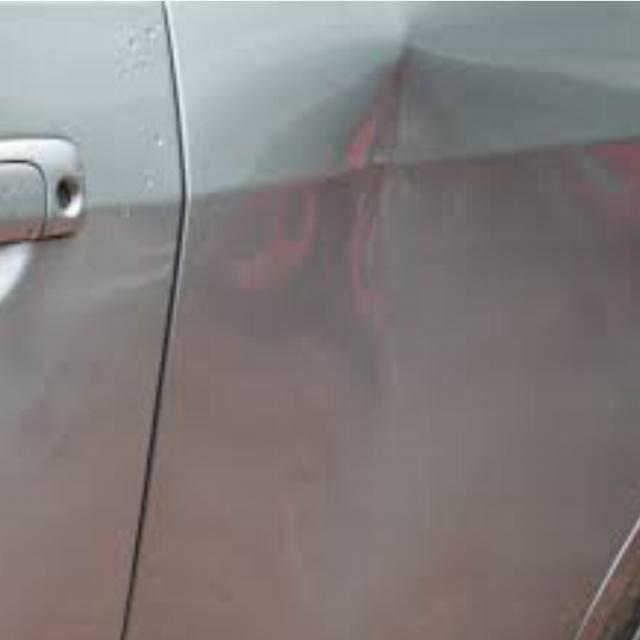dents: (321, 11, 508, 195)
